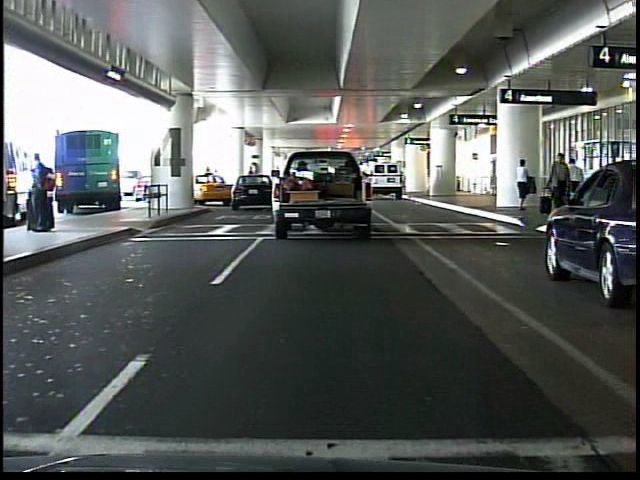person: (25, 143, 61, 238), (549, 148, 576, 205), (563, 155, 585, 218), (511, 155, 534, 213)
